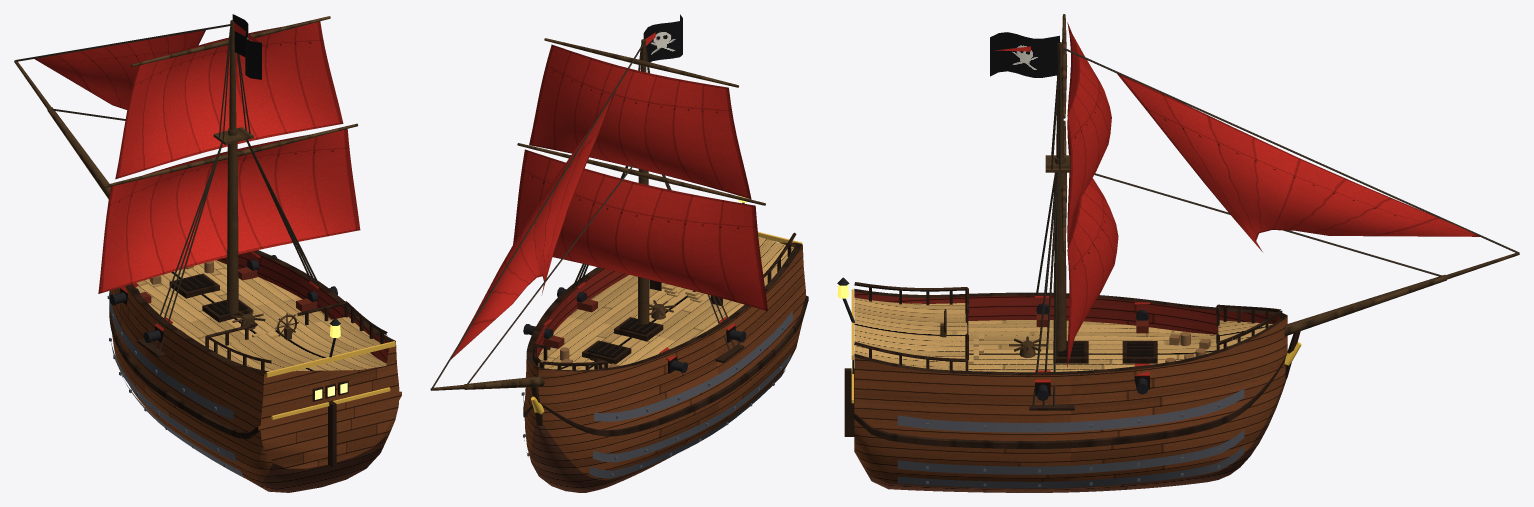
Rendered from player_sloop.glb.
3 views of the same model, side by side, from view 1: azimuth 30°, elevation 25°; view 2: azimuth 150°, elevation 25°; view 3: azimuth 270°, elevation 25° (orthographic). The views are drawn at different scales.
Visible parts, largest first — view 1: Hull, Sail0_0, Sail0_1, Rigging, Jib, Plating3, Flag, Guns3, Plating2; view 2: Hull, Sail0_0, Sail0_1, Jib, Rigging, Plating3, Plating2, Flag, Guns3, Plating1; view 3: Hull, Jib, Rigging, Plating3, Sail0_0, Sail0_1, Plating2, Flag, Plating1.
Part boxes in pixels (x1,y1,x2,y2): Hull: (109,250,401,492); Sail0_0: (98,129,360,293); Sail0_1: (115,21,343,179); Rigging: (14,16,358,353); Jib: (35,30,205,109); Plating3: (107,291,244,477); Flag: (232,14,261,79); Guns3: (109,255,337,342); Plating2: (112,349,243,476); Hull: (523,196,808,492); Sail0_0: (513,149,767,311); Sail0_1: (529,44,751,199); Jib: (451,91,615,359); Rigging: (430,32,765,390); Plating3: (521,311,793,476); Plating2: (523,355,790,478); Flag: (643,14,682,62); Guns3: (523,287,746,372); Plating1: (523,353,791,459); Hull: (837,277,1301,492); Jib: (1117,73,1479,251); Rigging: (994,14,1519,406); Plating3: (897,389,1244,488); Sail0_0: (1067,173,1118,367); Sail0_1: (1067,22,1111,241); Plating2: (897,430,1244,484); Flag: (990,32,1059,77); Plating1: (897,436,1244,474).
Size of the model in its own units: 1.55 by 2.35 by 3.31.
Materials: 21 (8 with a texture image).
